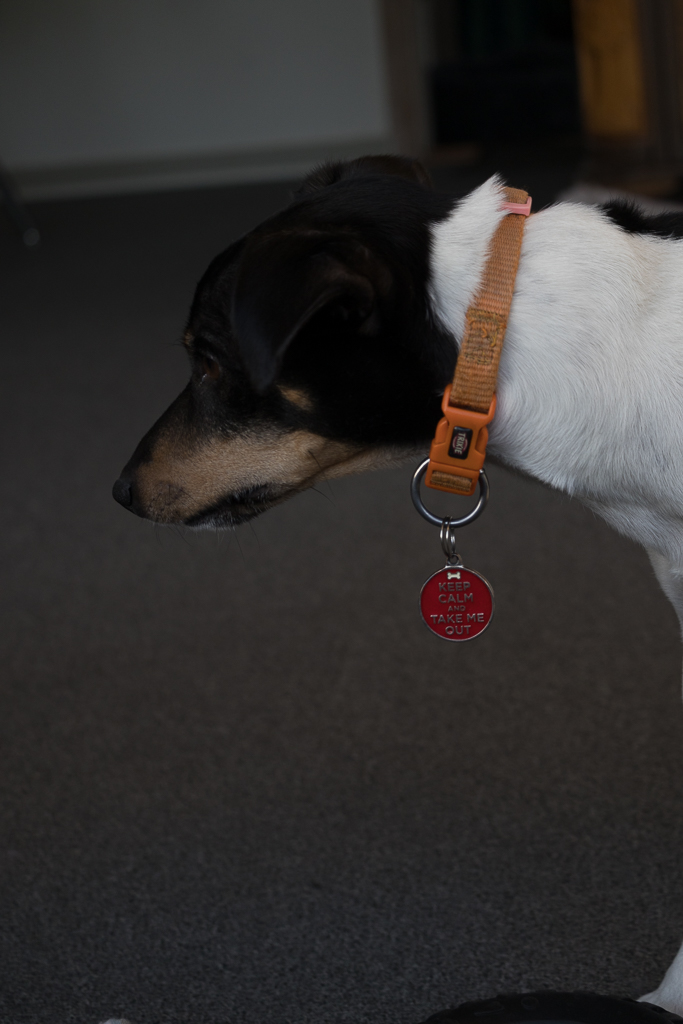Dog: (107, 135, 683, 1024)
